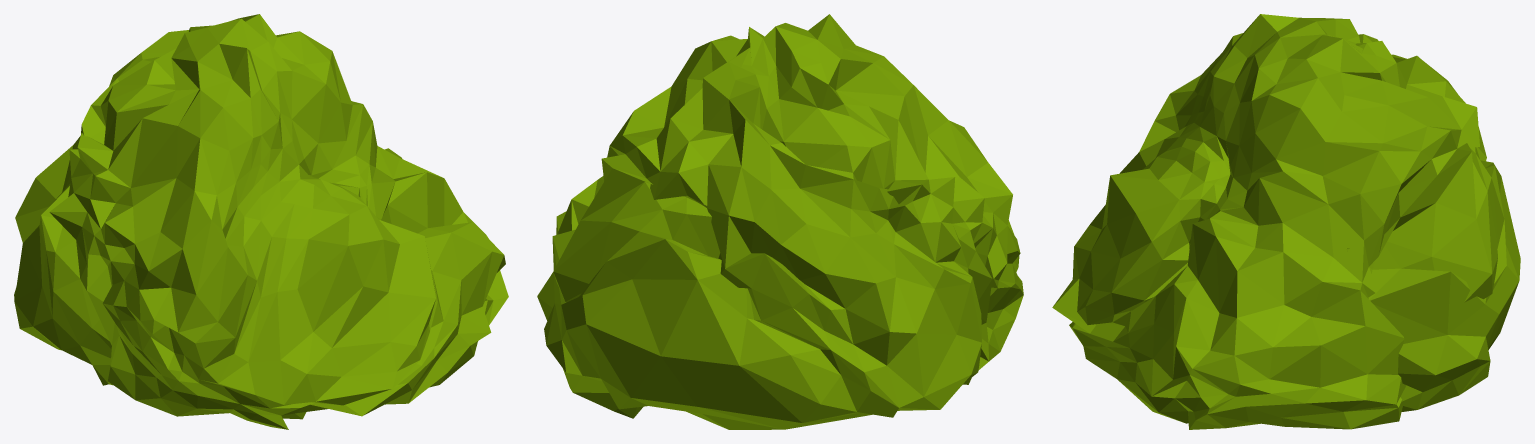
File: bush.01.gltf
3 views of the same model, side by side, from view 1: azimuth 30°, elevation 25°; view 2: azimuth 150°, elevation 25°; view 3: azimuth 270°, elevation 25° (orthographic). The views are drawn at different scales.
Visible parts, largest first — view 1: bush1; view 2: bush1; view 3: bush1.
Part boxes in pixels (x1,y1,x2,y2): bush1: (14,14,508,429); bush1: (537,14,1023,429); bush1: (1052,14,1520,429).
Bounding box in the file's own units: 1.26 × 0.9872 × 1.23.
